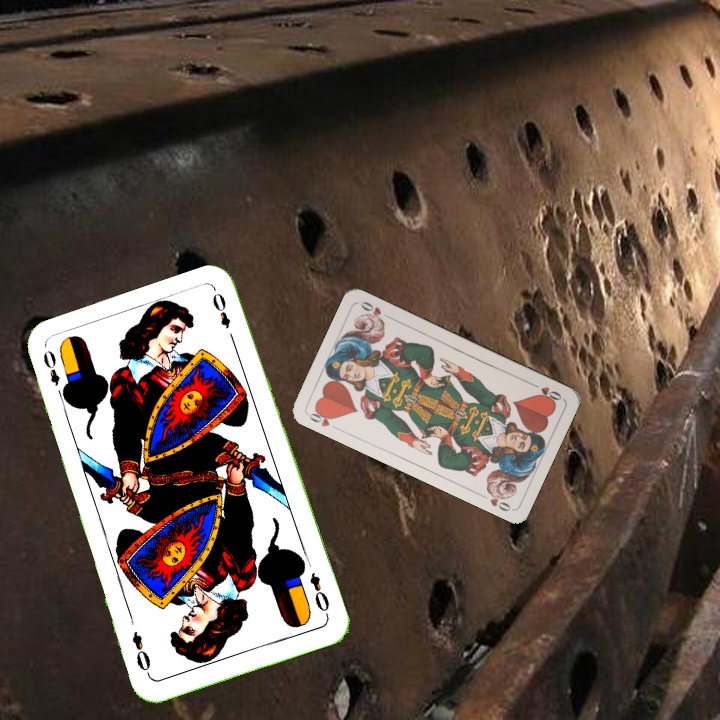EO: (306, 568, 332, 619), (39, 345, 63, 388)
HO: (304, 405, 343, 433), (527, 379, 564, 405)
